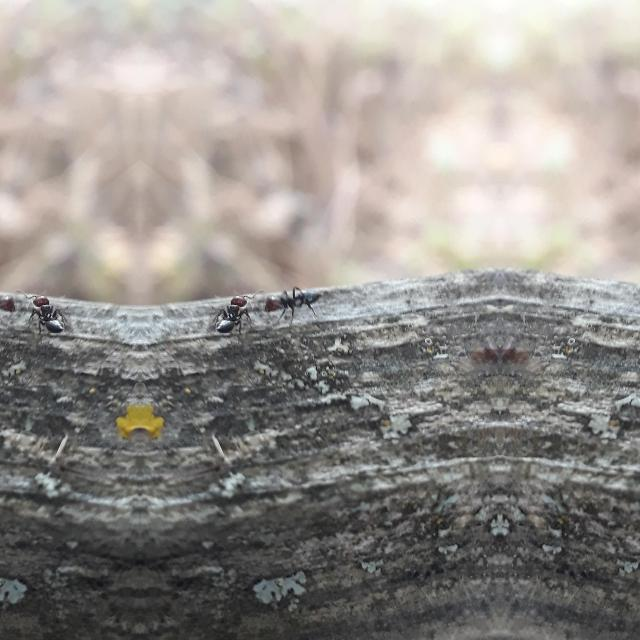Crematogaster: (210, 283, 254, 339), (26, 283, 70, 339), (261, 284, 327, 320), (0, 284, 19, 319)
